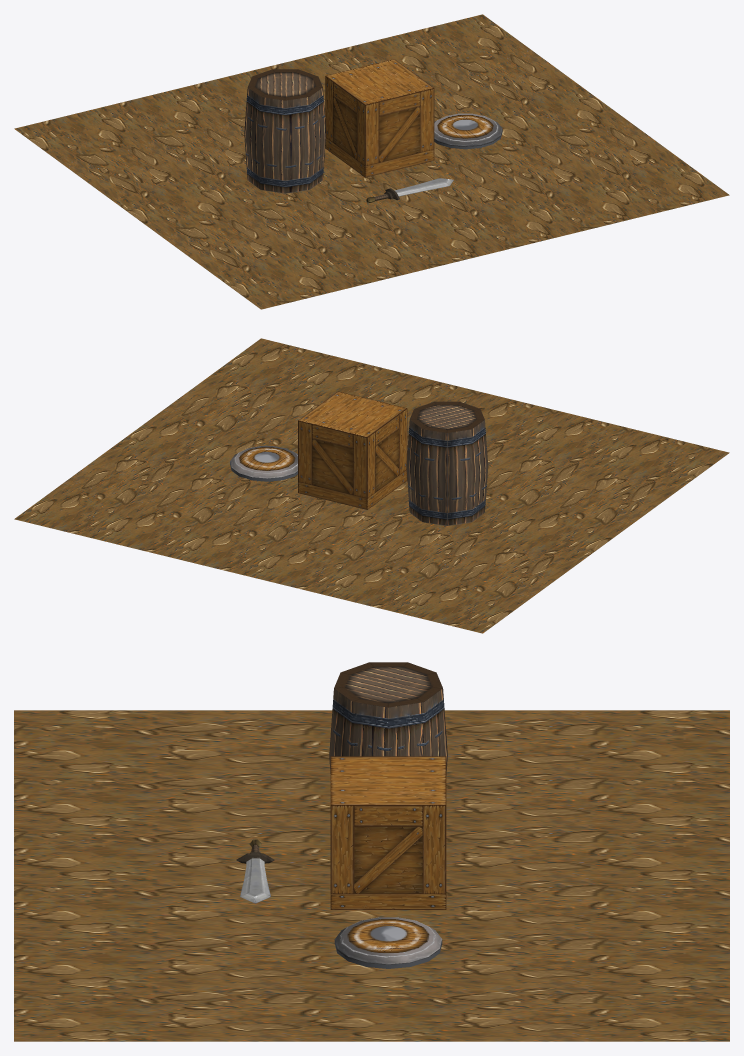
Rendered from barrel_rdy.fbx.
3 views of the same model, one above another, from view 1: azimuth 30°, elevation 25°; view 2: azimuth 150°, elevation 25°; view 3: azimuth 270°, elevation 25° (orthographic). The views are drawn at different scales.
Visible parts, largest first — view 1: ground, WoodBox, Barrel, Shield, Sword; view 2: ground, WoodBox, Barrel, Shield; view 3: ground, WoodBox, Barrel, Shield, Sword.
Boxes of the visible parts, bbox=[...] form: ground: bbox=[14, 14, 729, 309]; WoodBox: bbox=[325, 59, 434, 177]; Barrel: bbox=[244, 69, 325, 193]; Shield: bbox=[434, 113, 502, 149]; Sword: bbox=[366, 178, 453, 202]; ground: bbox=[14, 338, 729, 633]; WoodBox: bbox=[298, 391, 407, 509]; Barrel: bbox=[406, 401, 488, 525]; Shield: bbox=[230, 446, 297, 481]; ground: bbox=[14, 710, 729, 1041]; WoodBox: bbox=[330, 756, 446, 909]; Barrel: bbox=[329, 662, 447, 775]; Shield: bbox=[334, 917, 442, 968]; Sword: bbox=[236, 839, 274, 903].
Size of the model in its own units: 1708 by 334 by 1560.
2 materials, 2 textured.
